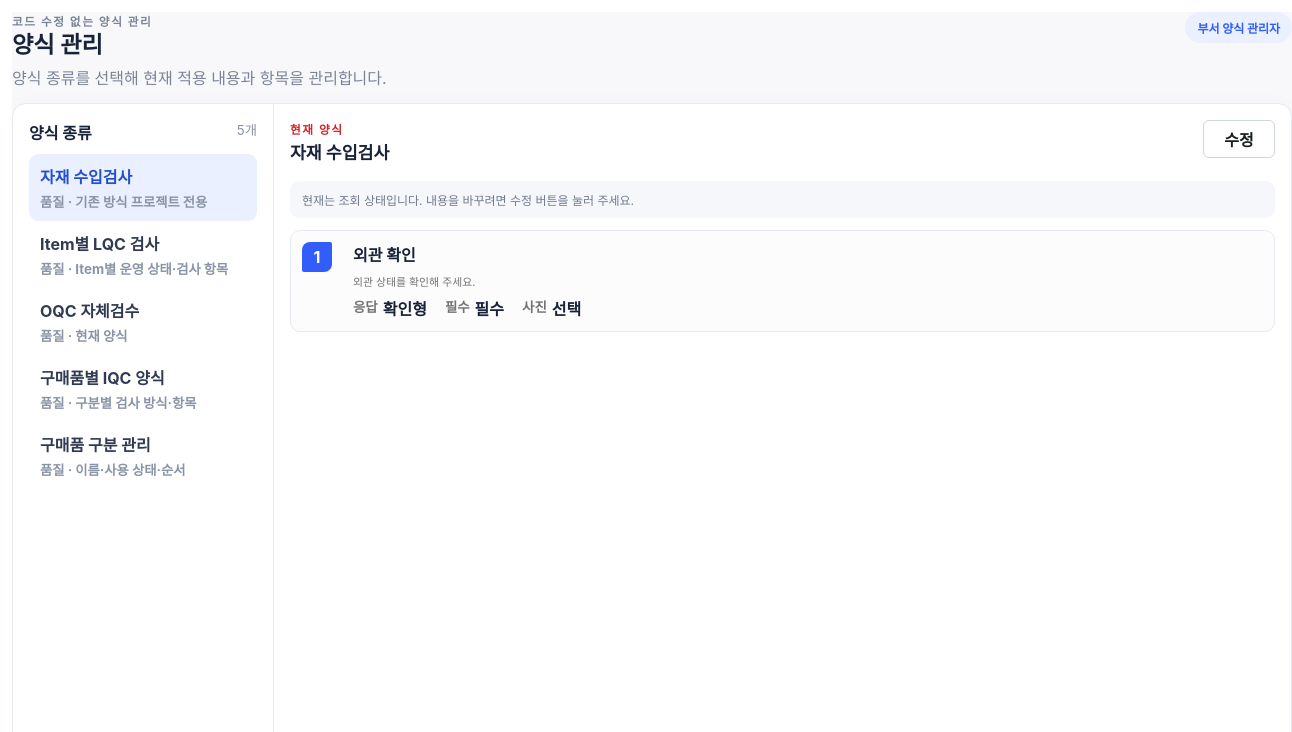
it: FormTemplateManagementPage › shows only quality forms and allows the quality department head to change LQC operation
Expected: the navigation bar "양식 종류" shows "자재 수입검사", [29,154,257,221]
Expected: the navigation bar "양식 종류" shows "OQC 자체검수", [29,288,257,355]
What coordinates should you click on to do the following:
click the button "Item별 LQC 검사 품질 · Item별 운영 상태·검사 항목"
I would click on:
 (143, 254)
Its box is [29,221,257,288].
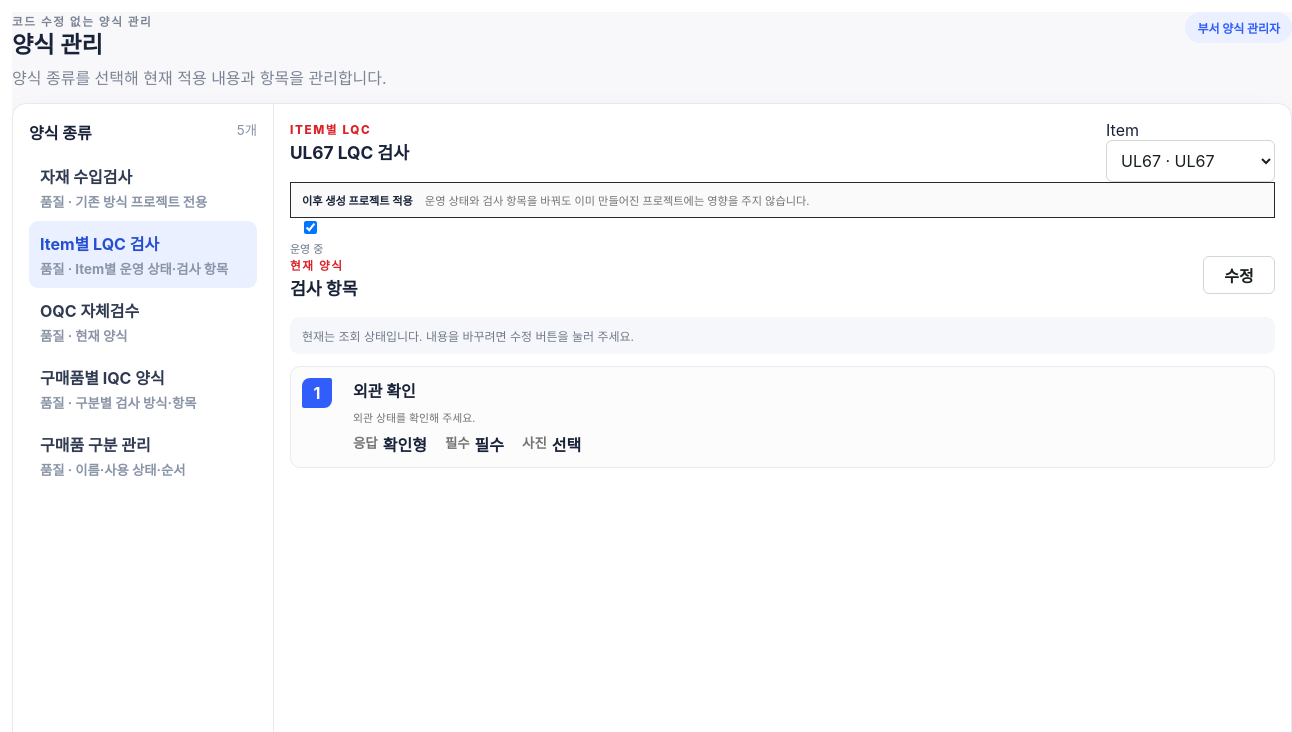
Expected: the switch is enabled, [294,221,328,234]
